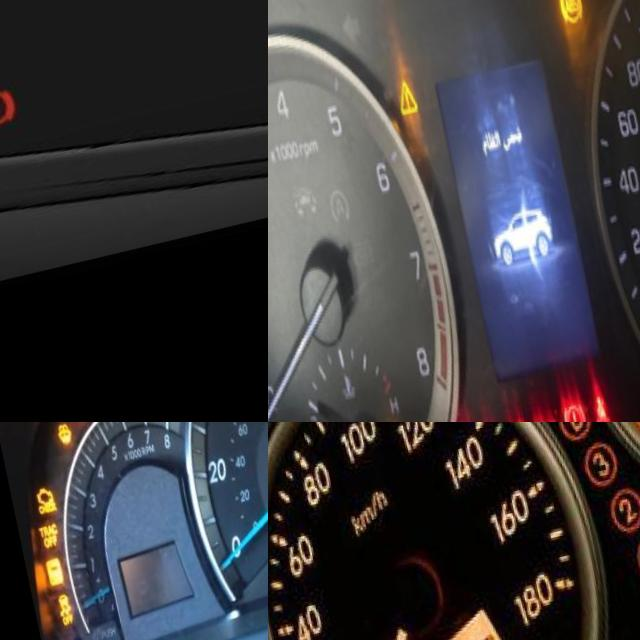Seat Belt: (566, 406, 591, 422)
